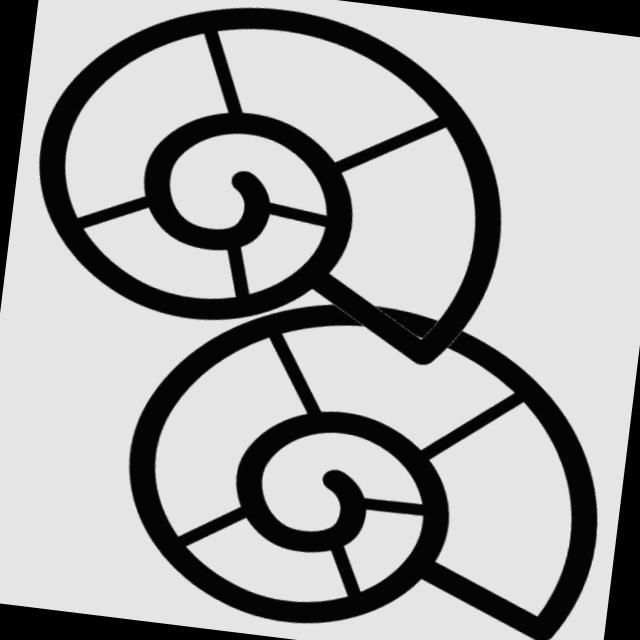fossil: (100, 266, 632, 640), (14, 1, 531, 385)
